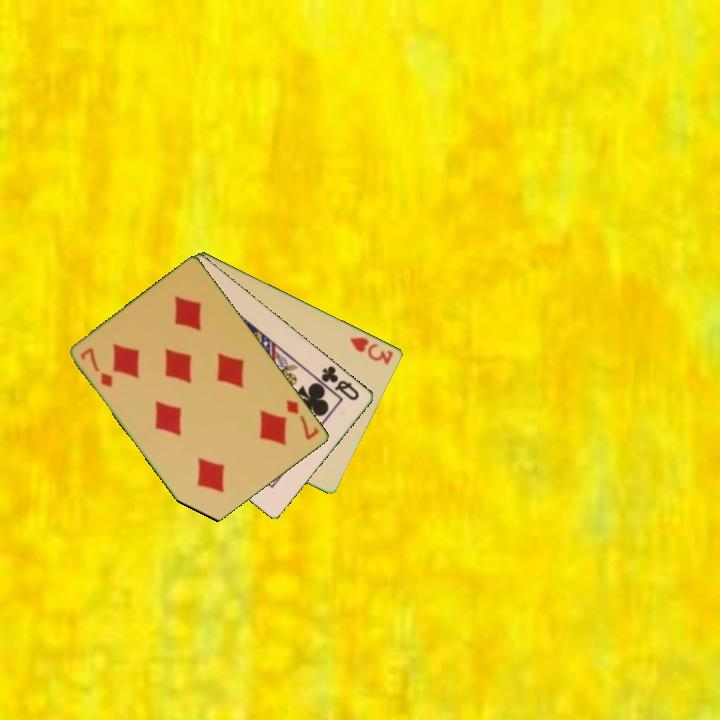3h: (346, 333, 397, 367)
7d: (283, 396, 322, 443), (77, 344, 116, 390)
Qc: (318, 362, 362, 404)
